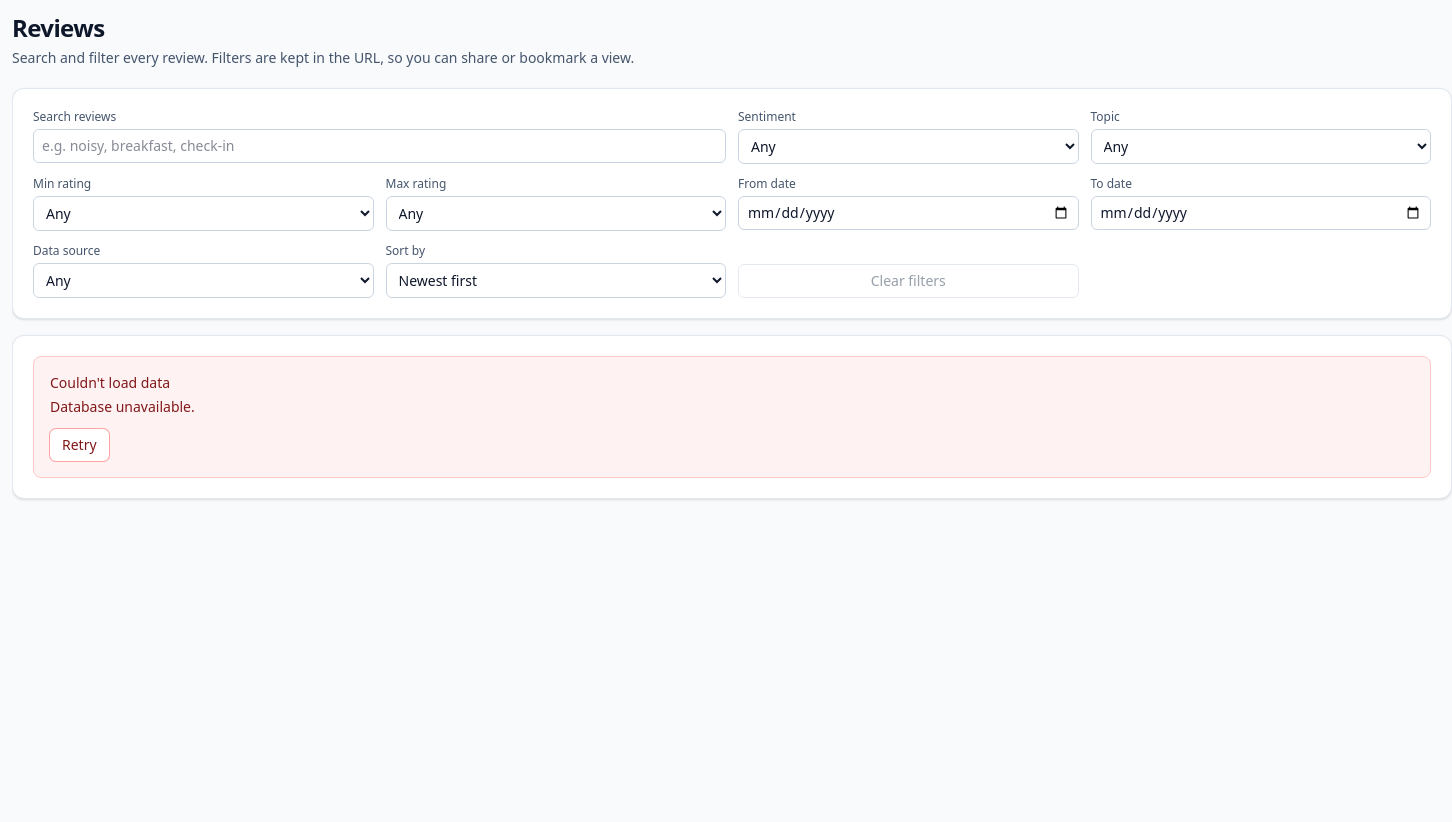
it: error state retries the request
Expected: the message shows "Database unavailable.", left=50, top=397, right=195, bottom=416
What coordinates should you click on to do the following:
click the button "Retry"
I would click on:
 (79, 445)
Its box is left=50, top=429, right=109, bottom=461.
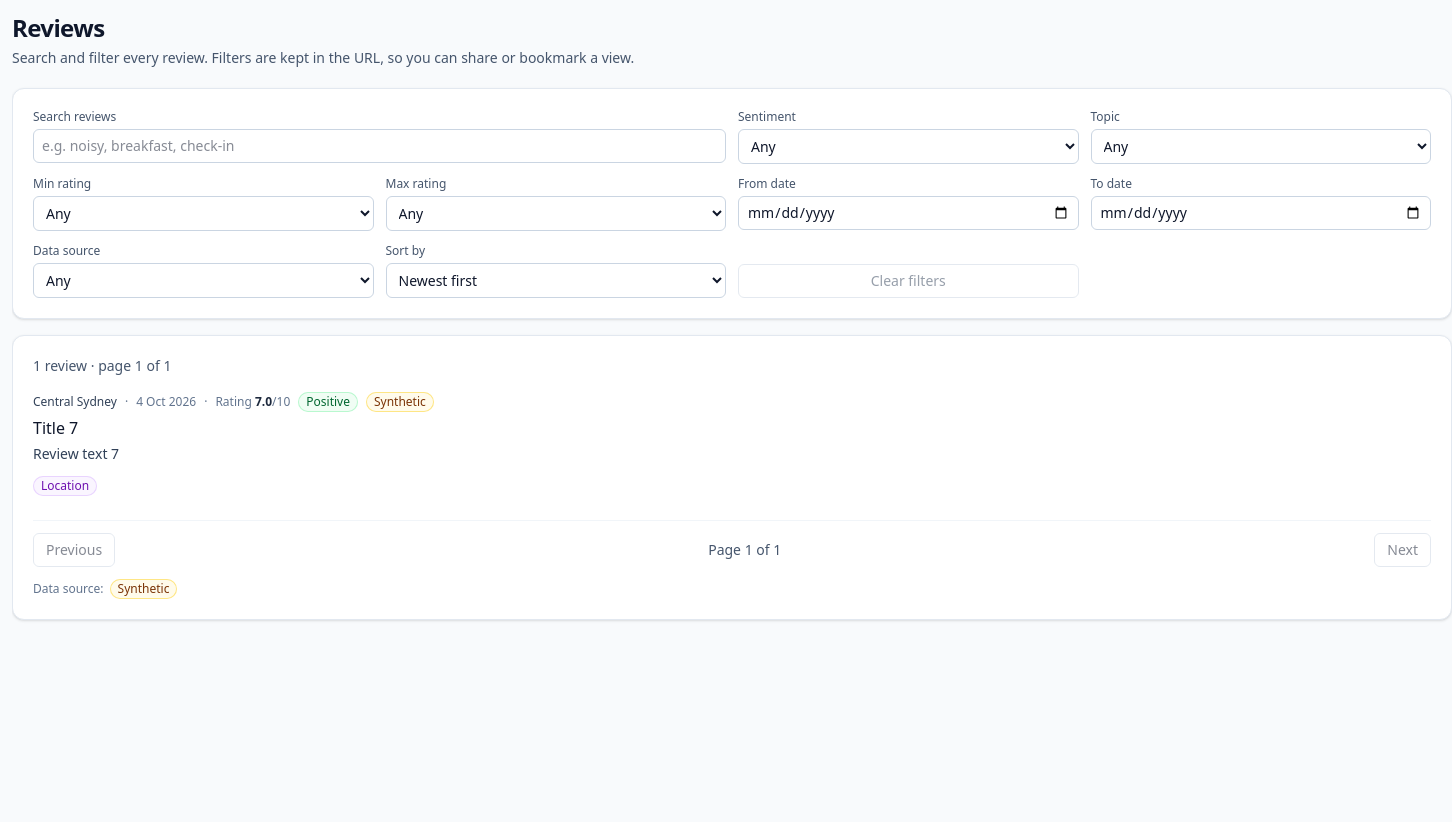
Now the heading "Title 7" is shown, box left=33, top=417, right=78, bottom=439
